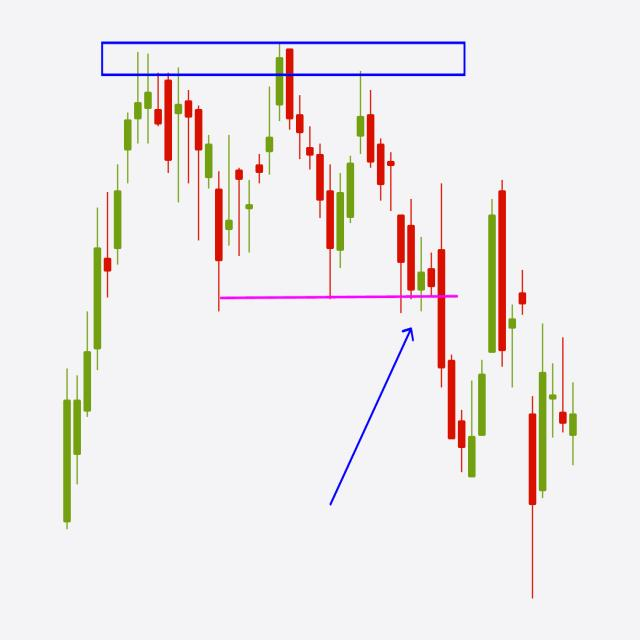Triple-Top: (107, 75, 426, 298)
